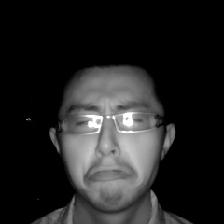sad: (42, 51, 187, 214)
